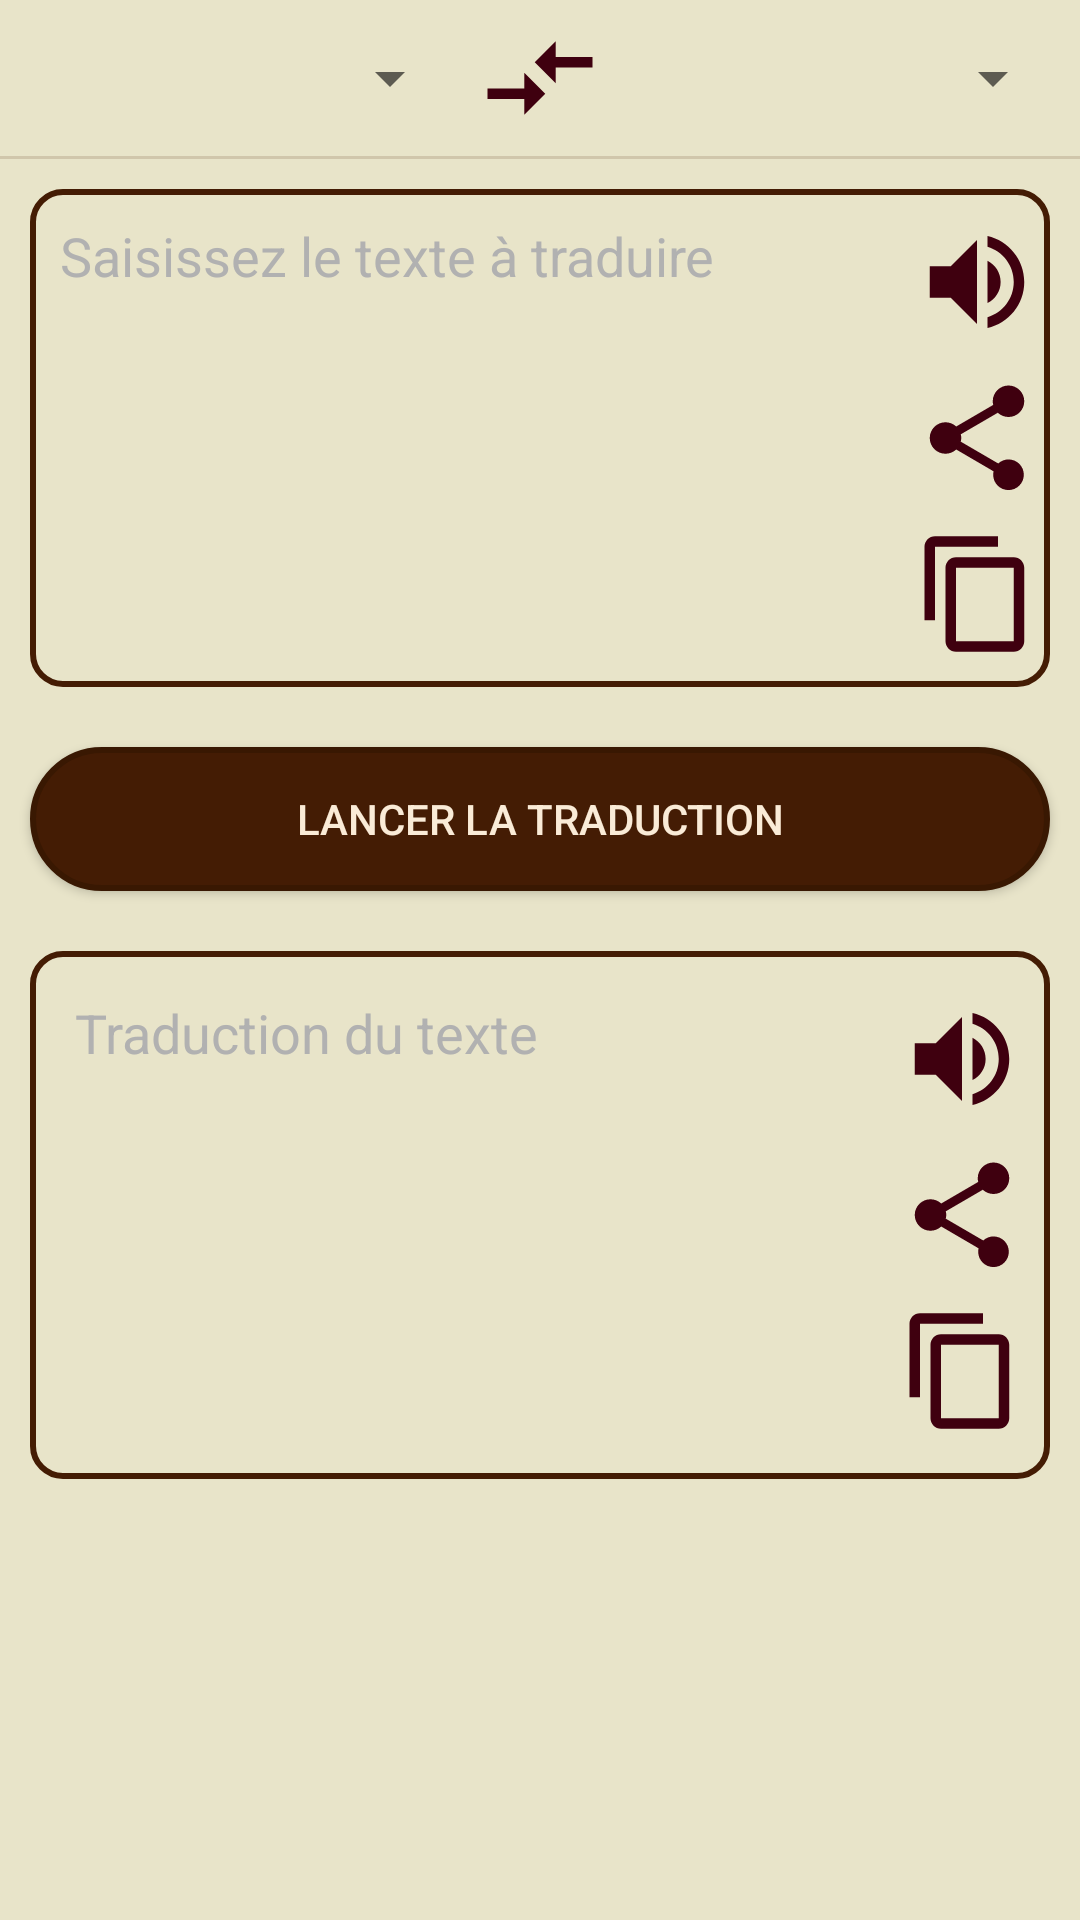

Where icons sit on this 1080x1920 app screen, as (x1, y1, x2, y2):
compare arrows: (487, 41, 593, 115)
content: (924, 536, 1025, 652), (909, 1313, 1010, 1429)
share: (929, 385, 1025, 490), (914, 1162, 1010, 1267)
volume up: (929, 236, 1025, 328), (914, 1013, 1010, 1105)
